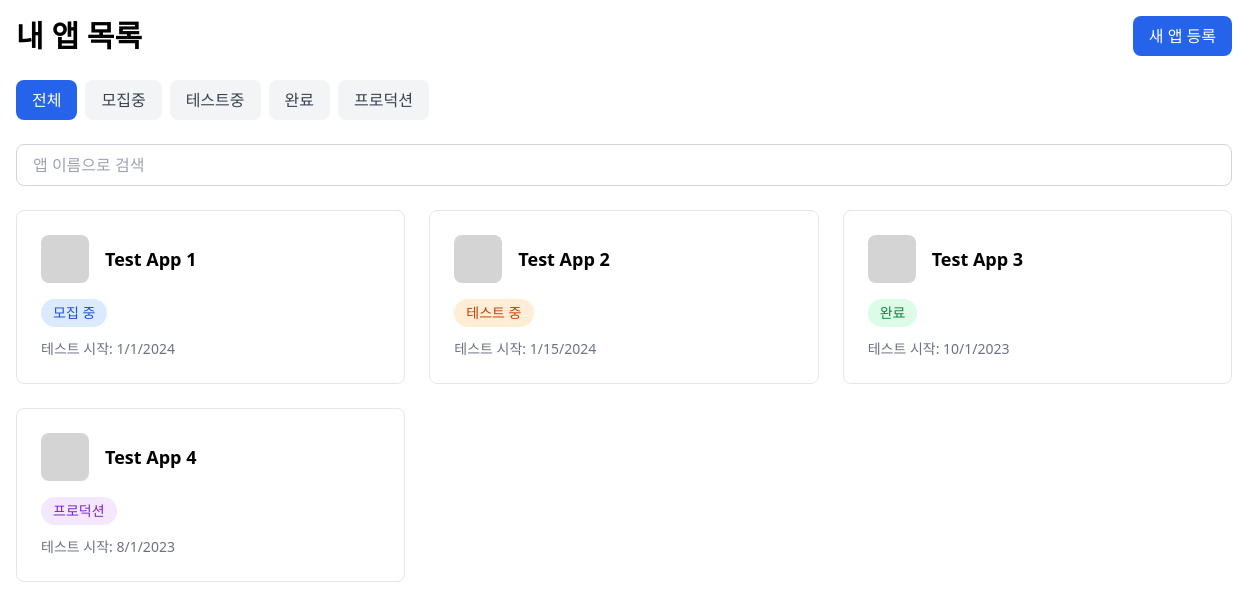
it: P3-S8: Developer Apps List › 🔴 RED: Status Filter Tabs › should filter apps by RECRUITING status when "모집중" tab clicked
The width and height of the screenshot is (1249, 599).
Check: the heading "Test App 1" is shown, box [105,247,196,271]
Step 1. Click the button "모집중" → (124, 100), box [86,80,162,120]
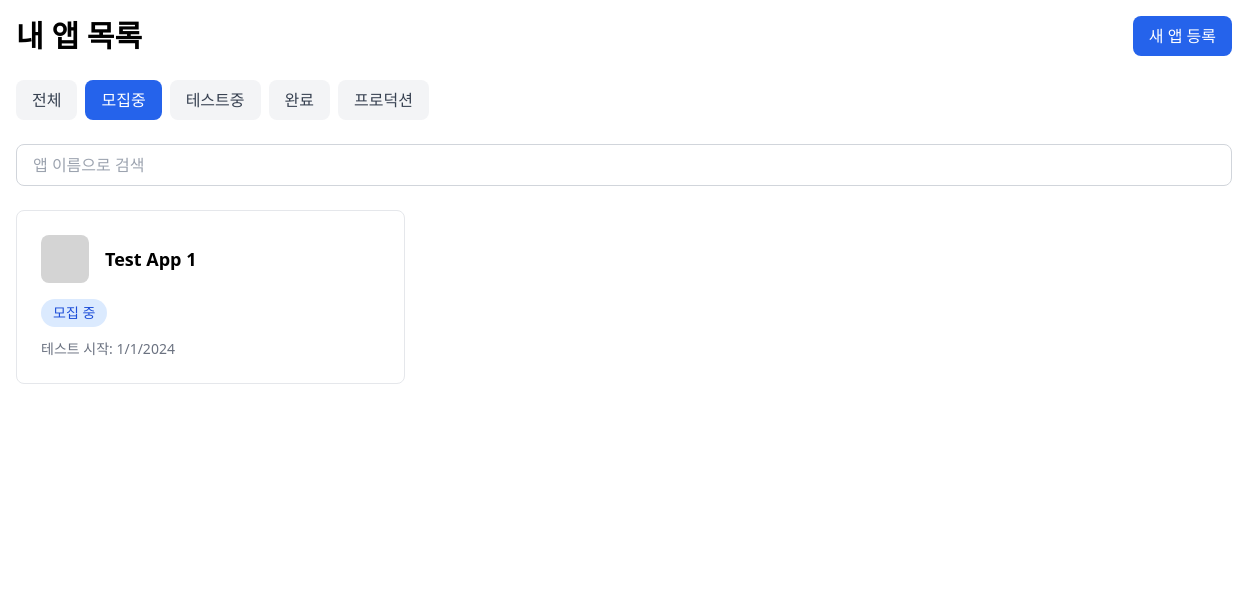
Check: the heading "Test App 2" is gone
Check: the heading "Test App 3" is gone
Check: the heading "Test App 4" is gone
